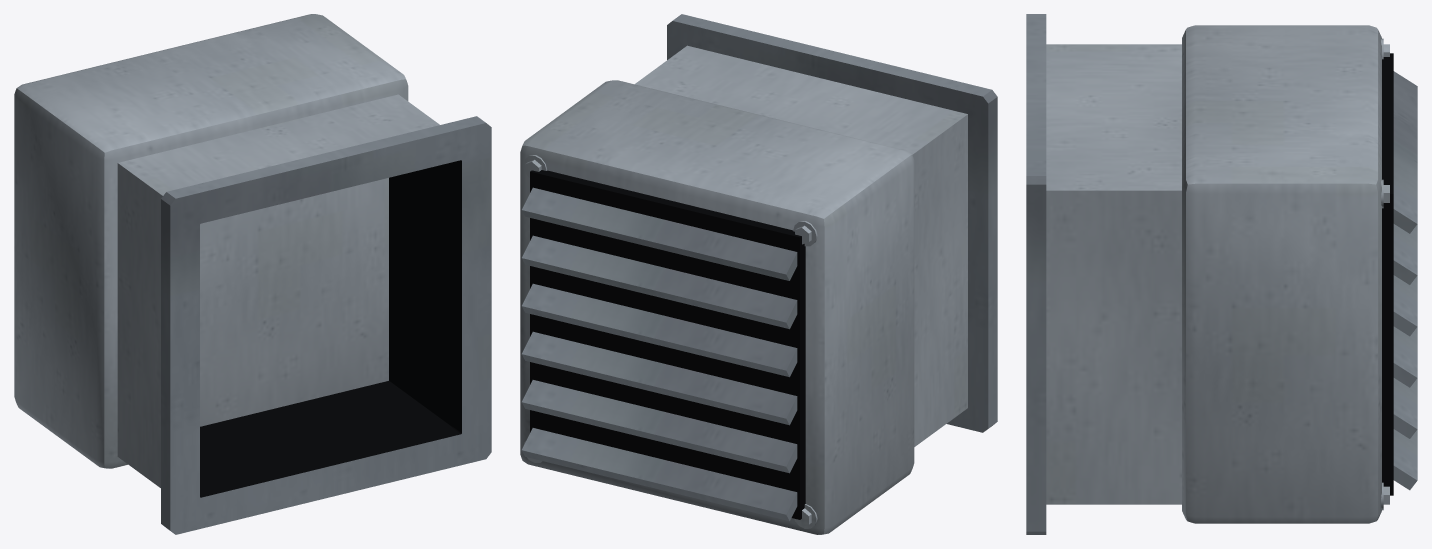
The model's file is duct_end.glb.
The picture shows the model from 3 angles, left to right: view 1: azimuth 30°, elevation 25°; view 2: azimuth 150°, elevation 25°; view 3: azimuth 270°, elevation 25°; orthographic projection. The views are drawn at different scales.
Visible parts, largest first — view 1: Body.004; view 2: Body.004; view 3: Body.004.
Boxes of the visible parts, x1,y1,x2,y2 form: Body.004: (14,14,491,534); Body.004: (520,14,997,534); Body.004: (1026,14,1417,534).
Size of the model in its own units: 0.238 by 0.238 by 0.2349.
3 materials, 2 textured.
